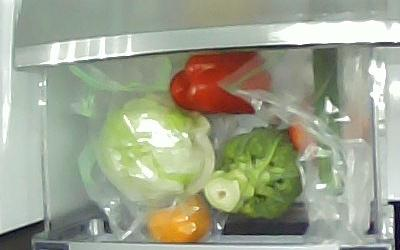apple_vinyl: (289, 95, 363, 153)
broccoli: (203, 127, 303, 219)
cucumber_vinyl: (312, 48, 346, 197)
lettuce_vinyl: (96, 98, 215, 209)
paprika_vinyl: (169, 51, 272, 115)
persimmon_vinyl: (147, 194, 211, 243)
